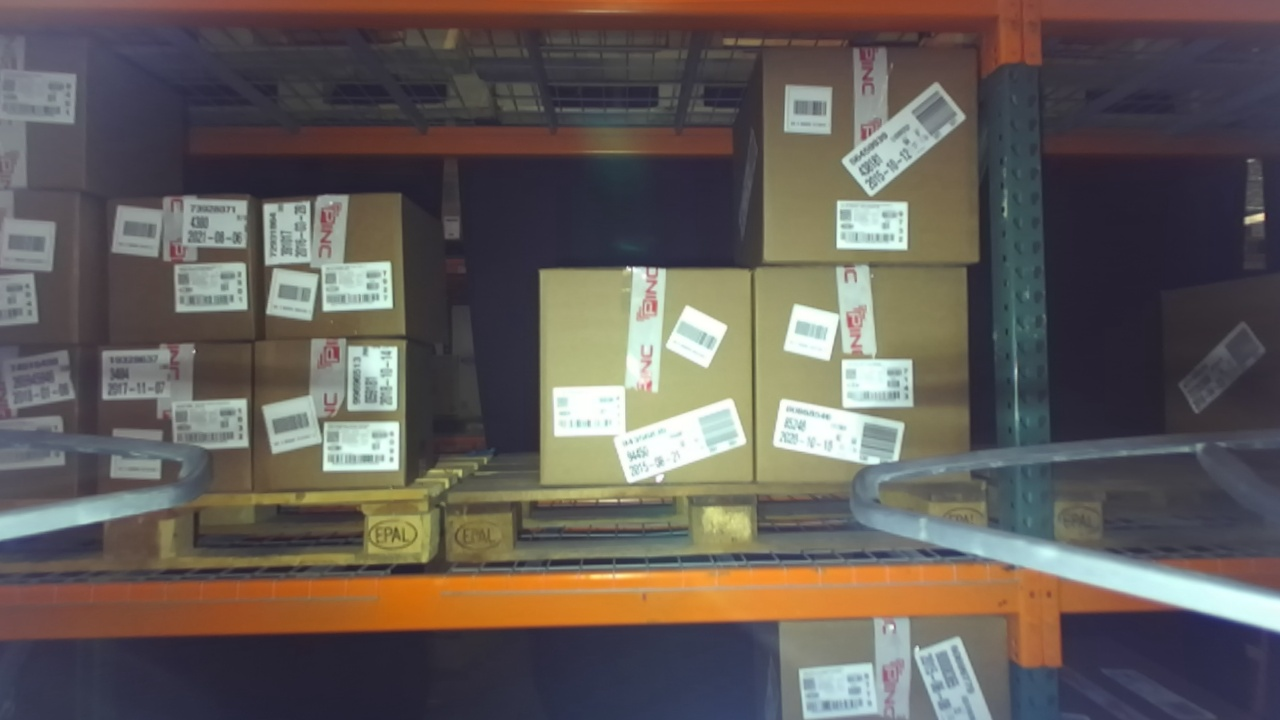box: (510, 241, 785, 524), (727, 251, 989, 510), (741, 26, 999, 276), (220, 322, 435, 492), (77, 328, 283, 498), (82, 176, 271, 355), (239, 171, 429, 342)
